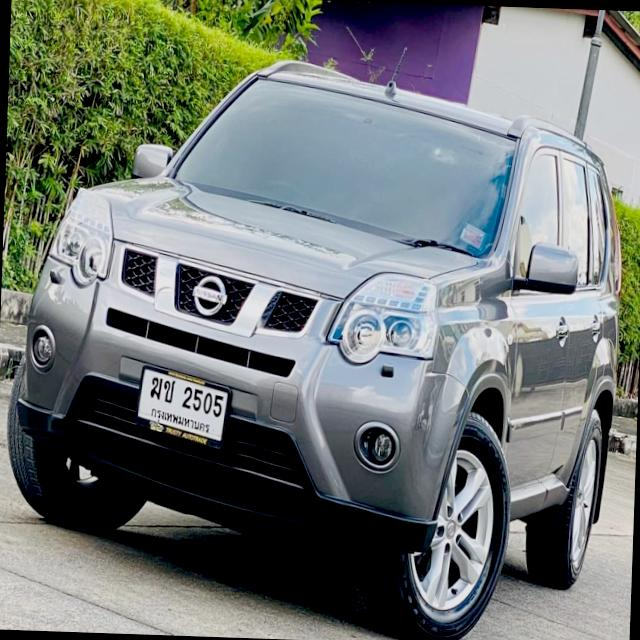license_plate: (132, 361, 235, 456)
